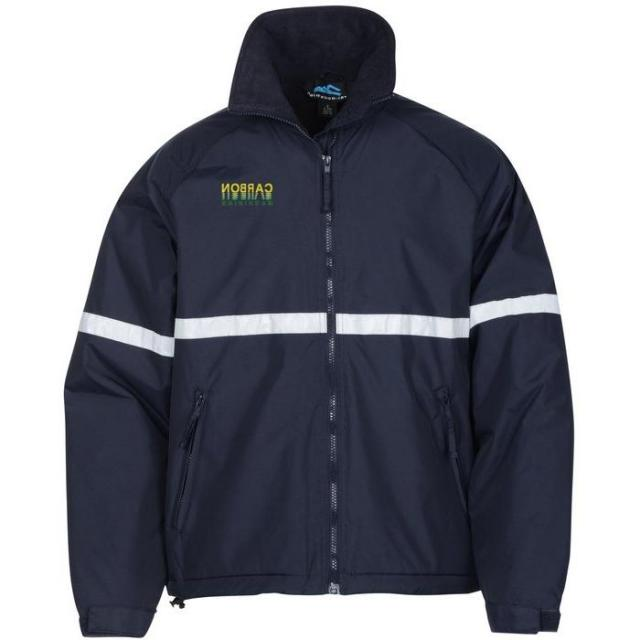Reflective-Jacket: (33, 11, 588, 640)
